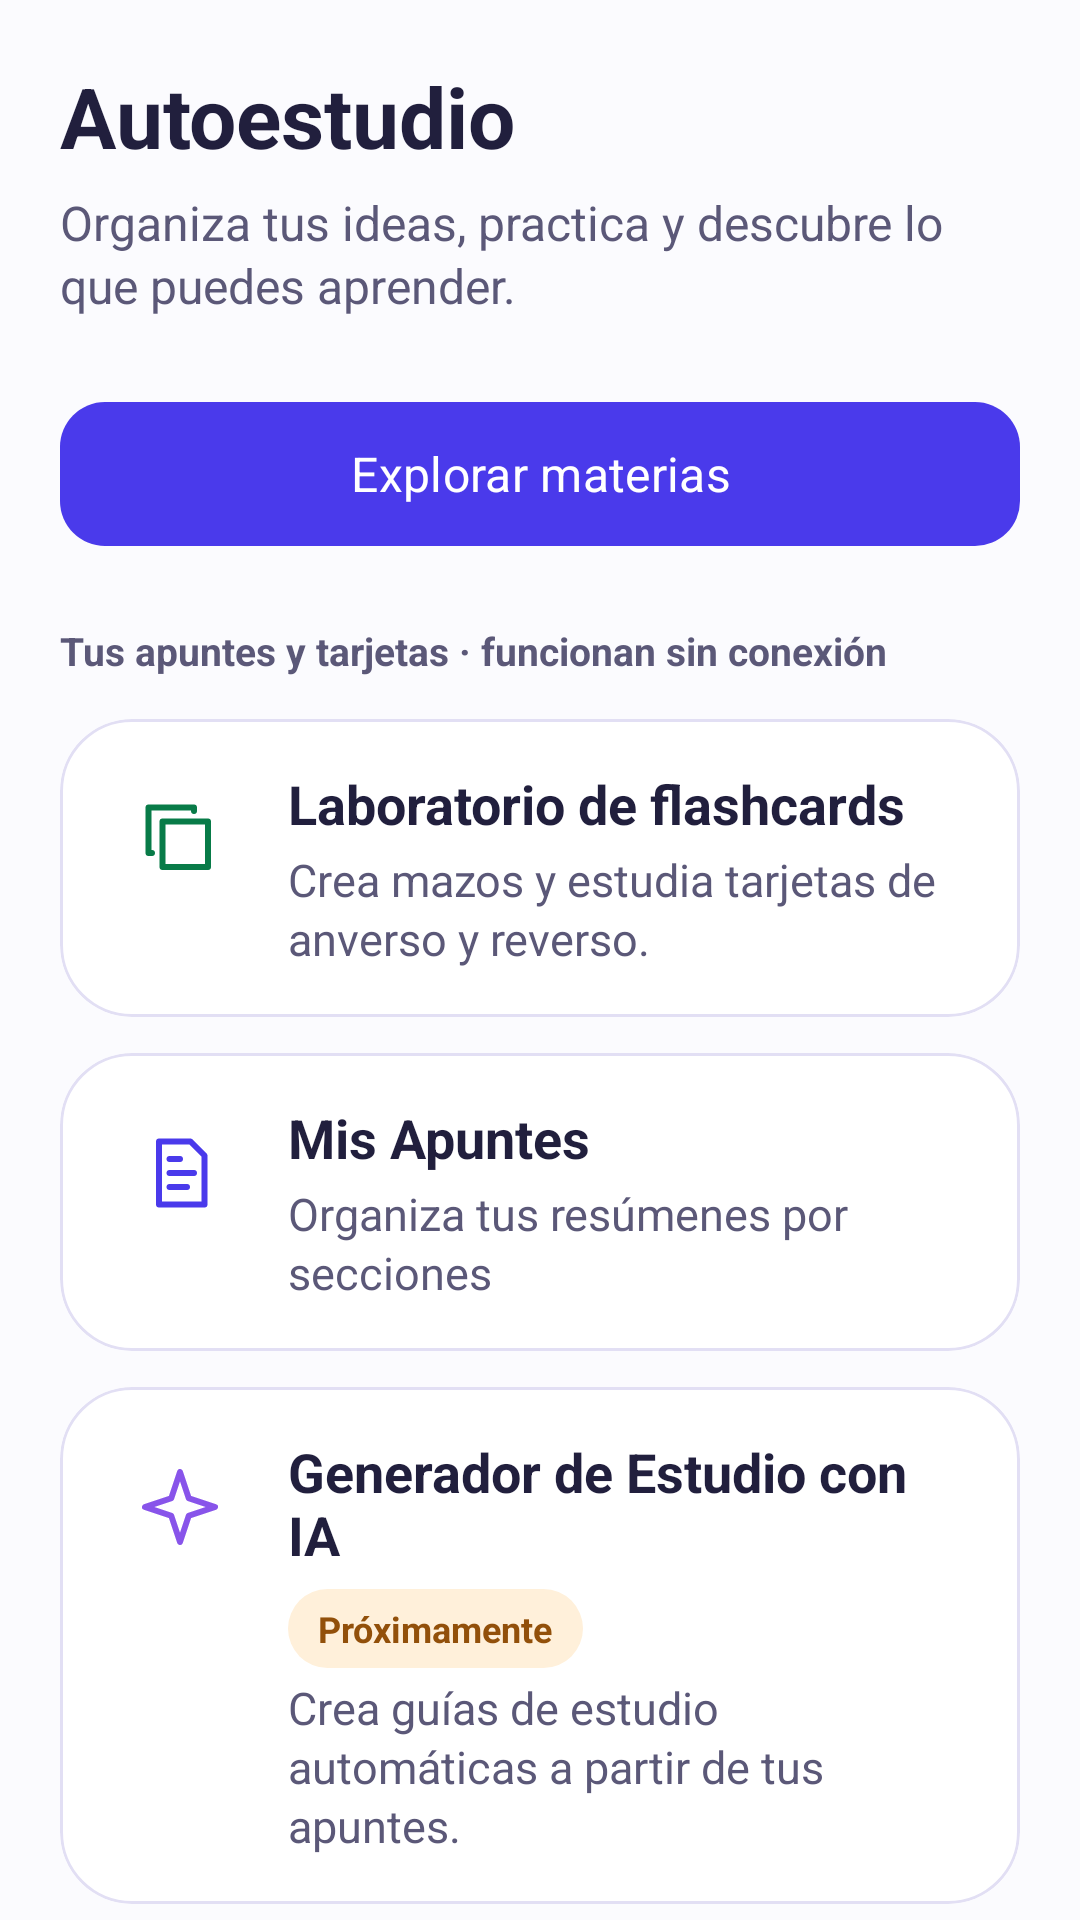

Where to tap for icons on this 1080w x 1920h app screen, as point (x, y):
ref cards: point (178, 837)
ref notes: point (182, 1173)
ref sparkles: point (180, 1507)
